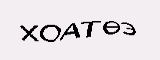А: (58, 22, 83, 42)
О: (39, 23, 60, 43)
Т: (79, 19, 101, 39)
Х: (18, 23, 39, 44)
Э: (120, 22, 137, 37)
Ө: (102, 19, 121, 37)
